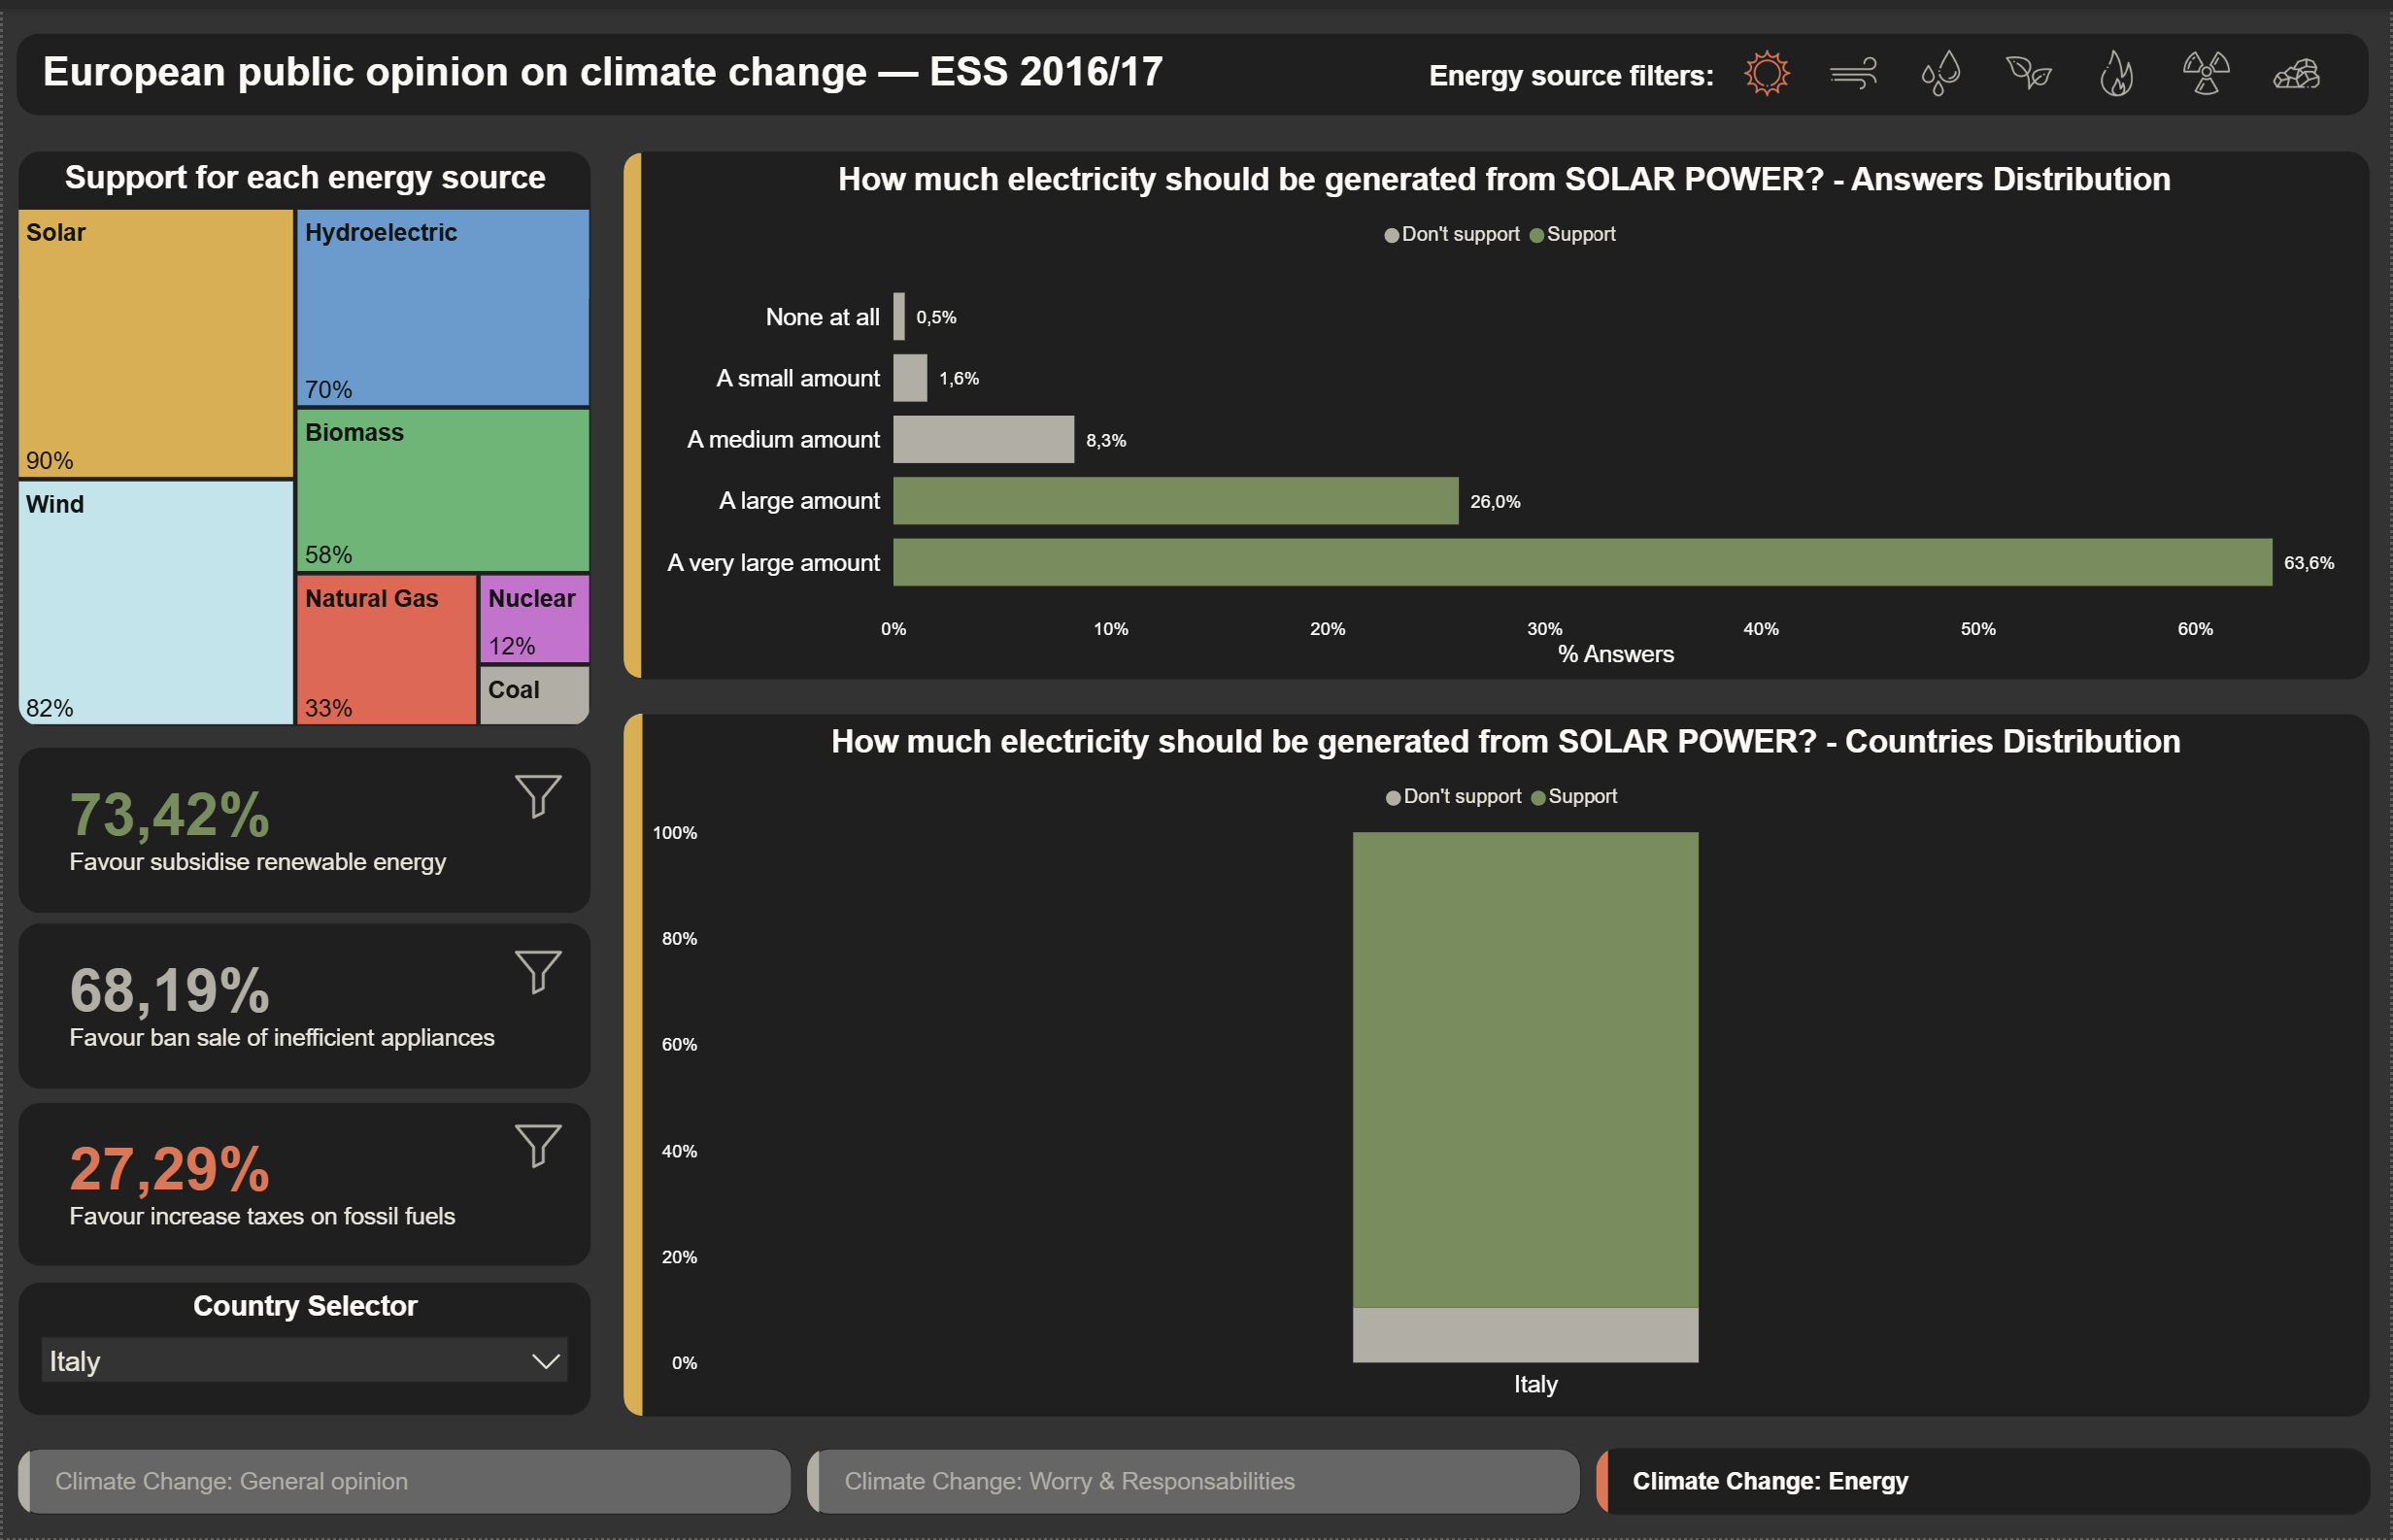

What the dashboard file says about the page in this screenshot:
{"tool":"powerbi","page":{"name":"Climate Change: Energy","canvas":[1600,1025],"ordinal":2},"visuals":[{"type":"treemap","title":"Support for each energy source","fields":{"Values":["_Measures.% Support Solar","_Measures.% Support Wind","_Measures.% Support Hydro","_Measures.% Support Biomass","_Measures.% Support Natural Gas","_Measures.% Support Nuclear","_Measures.% Support Coal"]},"box":[10,95.7,384.3,385.7],"z":0},{"type":"textbox","box":[8.9,16.7,1577.8,55.6],"z":1000},{"type":"cardVisual","fields":{"Data":["_Measures.% Favour Appliance Ban"]},"box":[10,612.9,384.3,111.4],"z":2000},{"type":"cardVisual","fields":{"Data":["_Measures.% Favour Fossil Fuel Tax"]},"box":[10,732.9,384.3,110],"z":3000},{"type":"pageNavigator","box":[10,964.3,1577.1,45.7],"z":4000},{"type":"slicer","title":"Country Selector","fields":{"Values":["CountriesList.Country"]},"box":[10,852.9,384.3,90],"z":5000},{"type":"cardVisual","fields":{"Data":["_Measures.% Favour Renewable Subsidies"]},"box":[10,494.3,384.3,111.4],"z":6000},{"type":"image","title":"Filter Inactive C","box":[1521.1,27.9,33,31],"z":8000},{"type":"image","title":"Filter Inactive N","box":[1461,27.9,33,31],"z":10000},{"type":"image","title":"Filter Inactive G","box":[1399.9,27.8,33,31],"z":12000},{"type":"image","title":"Filter Inactive B","box":[1341.1,28,33,31],"z":14000},{"type":"image","title":"Filter Inactive H","box":[1282.5,28,33,31],"z":16000},{"type":"image","title":"Filter Inactive W","box":[1223.4,28,33,31],"z":18000},{"type":"image","title":"Filter Active S","box":[1165.8,28,33,31],"z":21000},{"type":"hundredPercentStackedColumnChart","title":"How much electricity should be generated from SOLAR POWER? - Countries Distribution","fields":{"Y":["Sum(EnergyData.id)"],"Category":["EnergyData.Country"],"Series":["EnergyData.AnswerCathegory"]},"box":[416.7,471.7,1170,471.7],"z":22000},{"type":"shape","title":"Label","box":[416.4,471.8,12.7,470.9],"z":23000},{"type":"barChart","title":"How much electricity should be generated from SOLAR POWER? - Answers Distribution","fields":{"Y":["Sum(EnergyData.id)"],"Category":["EnergyData.AnswerLabel"],"Series":["EnergyData.AnswerCathegory"]},"box":[416.7,95,1170,355],"z":24000},{"type":"shape","title":"Label","box":[416.4,96.4,12.1,352.1],"z":25000},{"type":"image","title":"Filter Inactive 1","box":[341.5,512.1,33.6,31.8],"z":52000},{"type":"image","title":"Filter Inactive 2","box":[341.5,630,33.6,31.8],"z":56000},{"type":"image","title":"Filter Inactive 3","box":[341.5,747.2,33.6,31.8],"z":60000}]}

Visuals, with their boxes in screenshot pixels (x1, y1, x2, y2), scaled from the page's 1600x1025 canvas onto the 2393x1540 screenshot:
"Support for each energy source" treemap: 15/144/590/723
textbox: 14/25/2374/109
cardVisual - _Measures.% Favour Appliance Ban: 15/921/590/1088
cardVisual - _Measures.% Favour Fossil Fuel Tax: 15/1101/590/1266
pageNavigator: 15/1449/2374/1518
"Country Selector" slicer: 15/1282/590/1417
cardVisual - _Measures.% Favour Renewable Subsidies: 15/743/590/910
"Filter Inactive C" image: 2275/42/2324/88
"Filter Inactive N" image: 2185/42/2235/88
"Filter Inactive G" image: 2094/42/2143/88
"Filter Inactive B" image: 2005/42/2055/88
"Filter Inactive H" image: 1918/42/1968/88
"Filter Inactive W" image: 1830/42/1879/88
"Filter Active S" image: 1743/42/1793/88
"How much electricity should be generated from SOLAR POWER? - Countries Distribution" hundredPercentStackedColumnChart: 624/709/2374/1418
"Label" shape: 623/709/642/1417
"How much electricity should be generated from SOLAR POWER? - Answers Distribution" barChart: 624/143/2374/676
"Label" shape: 623/145/641/674
"Filter Inactive 1" image: 511/769/561/818
"Filter Inactive 2" image: 511/947/561/994
"Filter Inactive 3" image: 511/1122/561/1170
